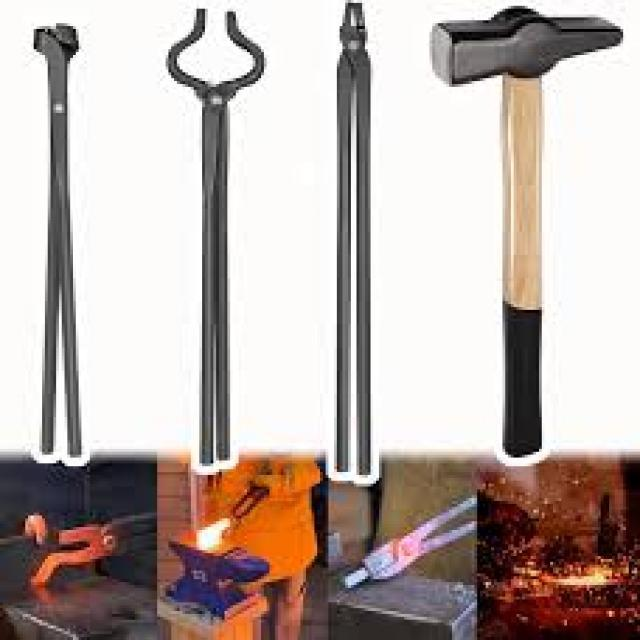hammer: (425, 0, 636, 472)
